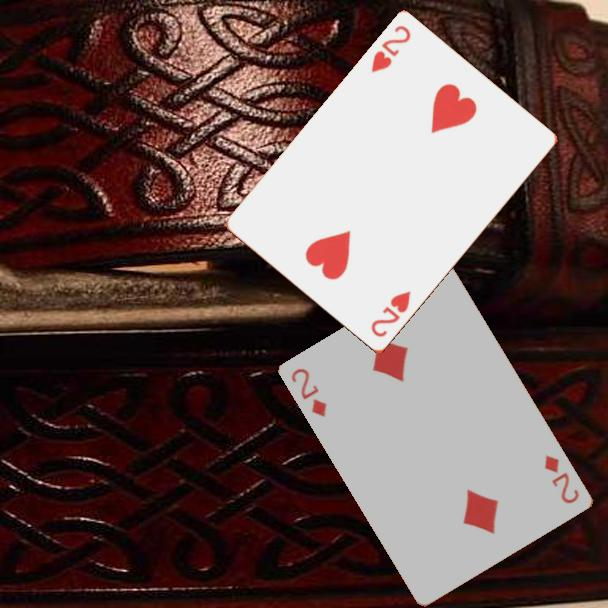d02: (541, 452, 583, 507), (288, 365, 330, 420)
h02: (367, 22, 414, 76), (367, 288, 414, 341)
